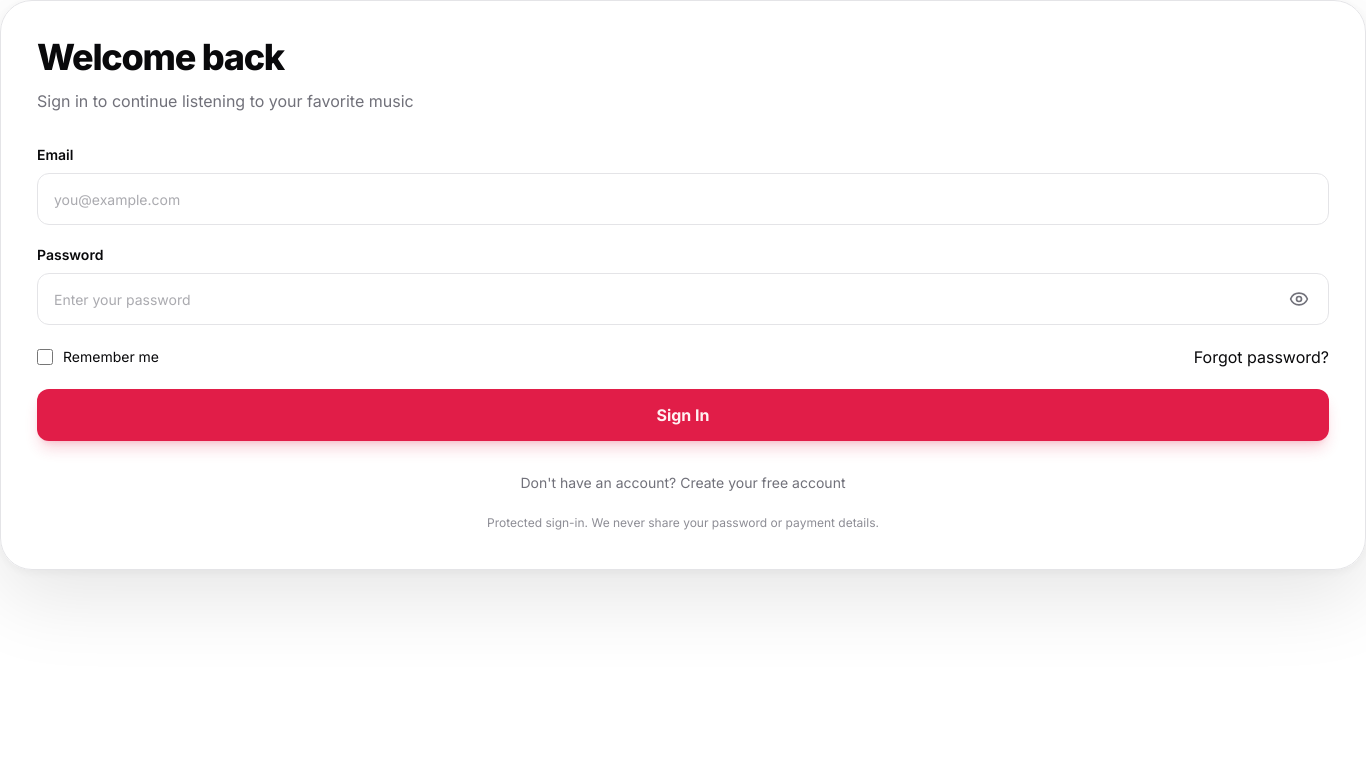
Test: LoginPage › shows backend errors returned by NextAuth
Type "suspended@test.com" into the field labelled "Email" at (683, 199), box left=37, top=173, right=1329, bottom=225
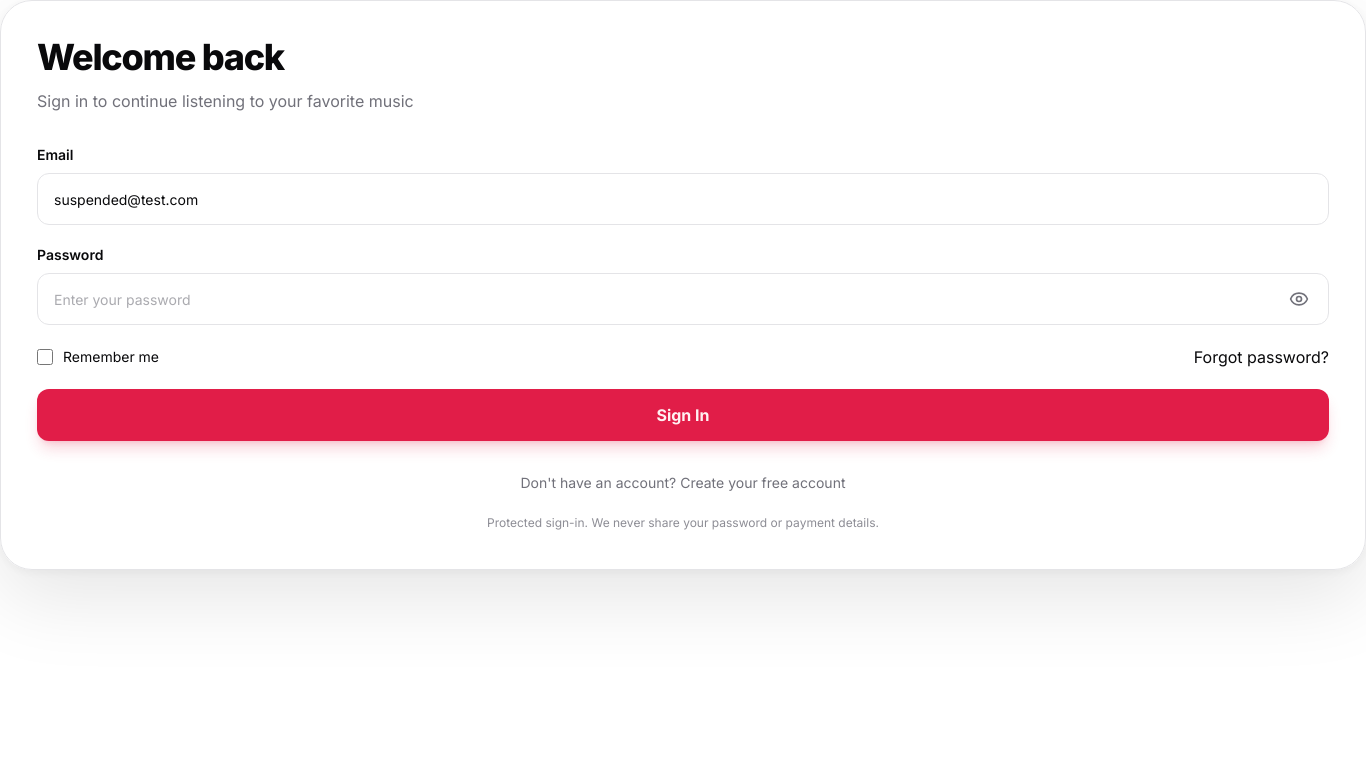
Type "password" into the password field labelled "Password" at (683, 299), box left=37, top=273, right=1329, bottom=325
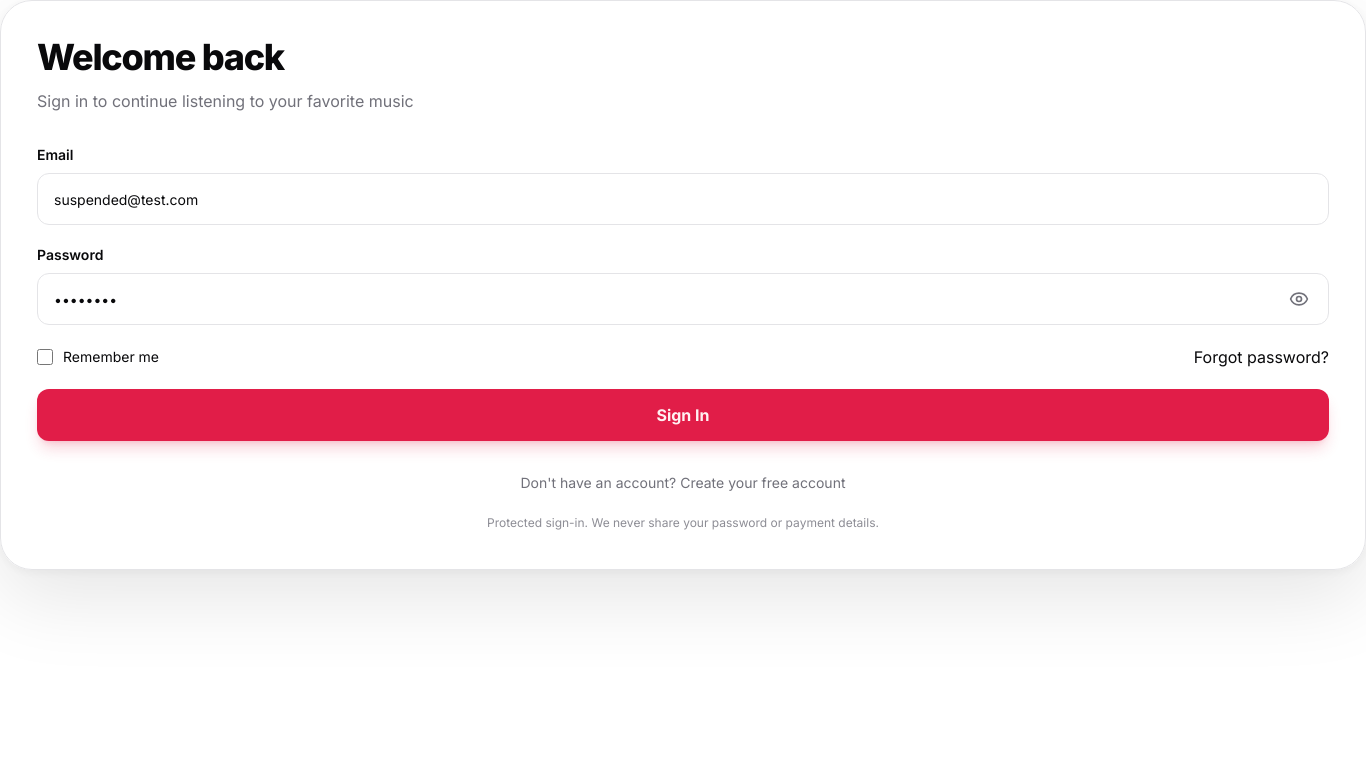
Click the button "Sign In" at (683, 415), box left=37, top=389, right=1329, bottom=441
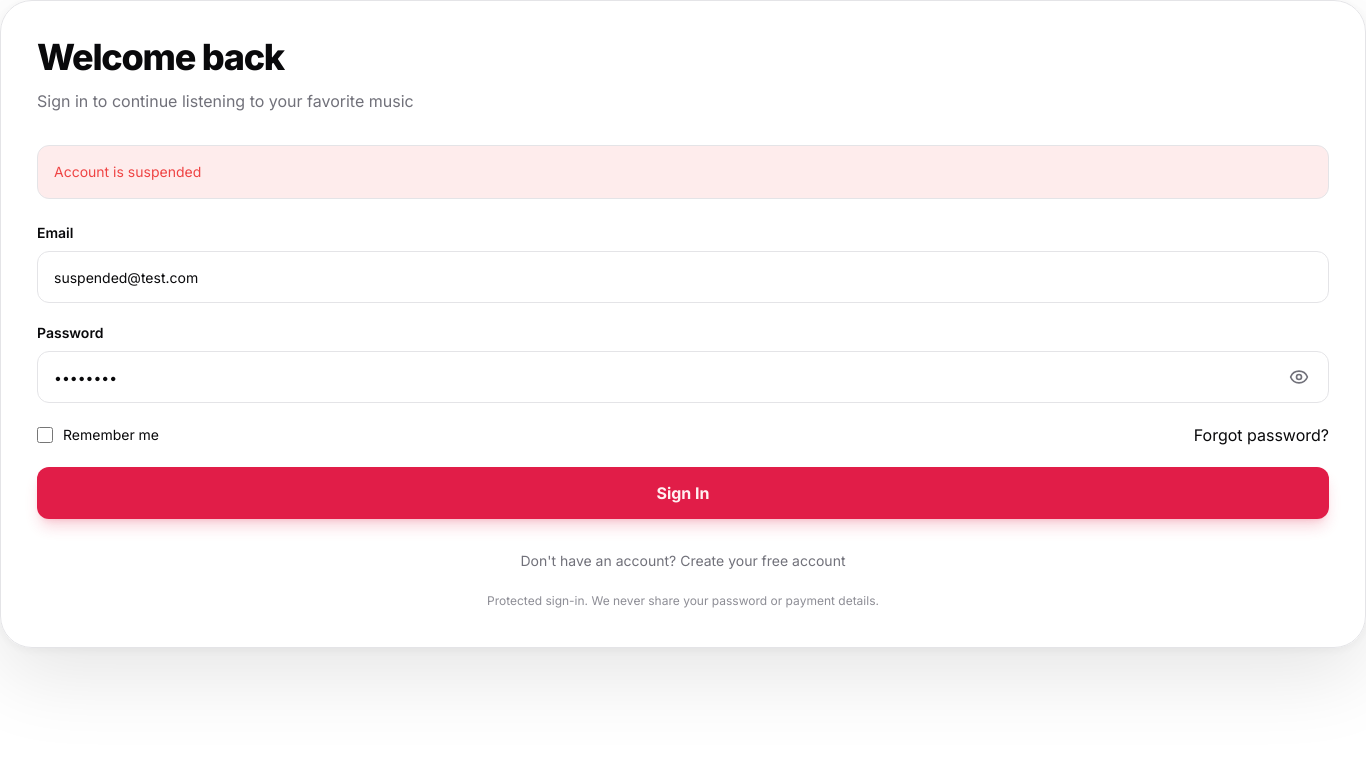
Now the text "Account is suspended" is shown, box left=37, top=145, right=1329, bottom=199
